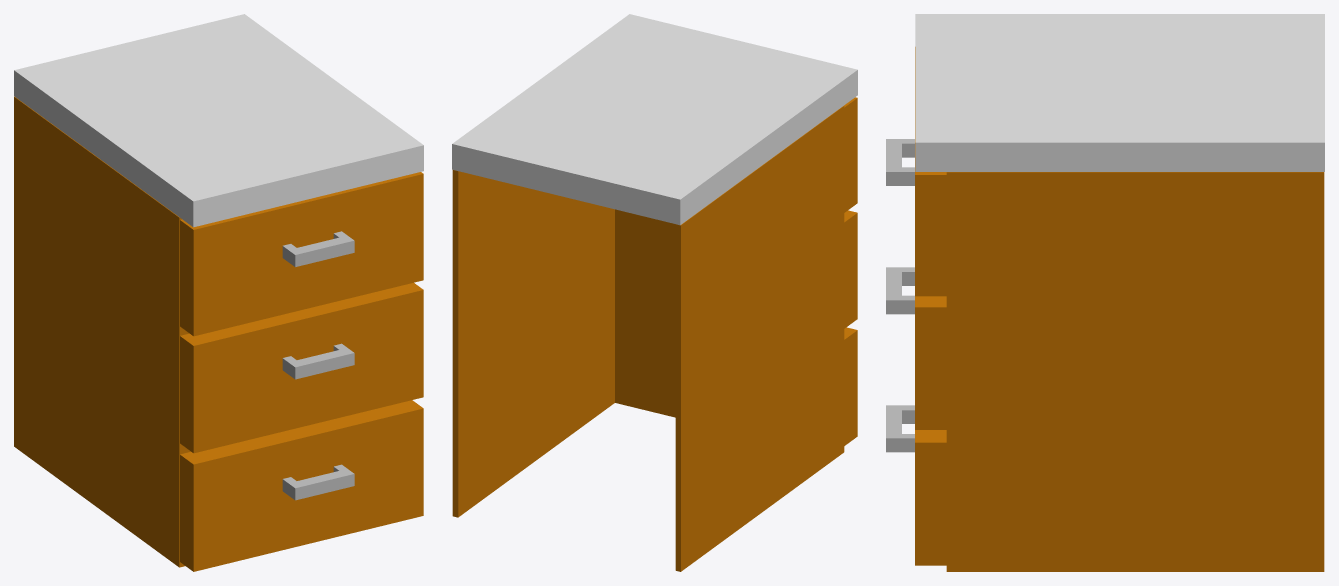
Rendered from red_drawers.glb.
The picture shows the model from 3 angles, left to right: view 1: azimuth 30°, elevation 25°; view 2: azimuth 150°, elevation 25°; view 3: azimuth 270°, elevation 25°; orthographic projection. The views are drawn at different scales.
Visible parts, largest first — view 1: Object_4, Object_3, Object_2; view 2: Object_4, Object_3; view 3: Object_4, Object_3, Object_2.
Part boxes in pixels (left/top/right/bottom): Object_4: left=14, top=96, right=423, bottom=571; Object_3: left=14, top=14, right=423, bottom=227; Object_2: left=282, top=231, right=354, bottom=500; Object_4: left=452, top=97, right=857, bottom=571; Object_3: left=452, top=14, right=857, bottom=225; Object_4: left=915, top=47, right=1324, bottom=571; Object_3: left=915, top=14, right=1324, bottom=171; Object_2: left=886, top=139, right=914, bottom=452.
Bounding box in the file's own units: 1.93 × 3.01 × 2.79.
